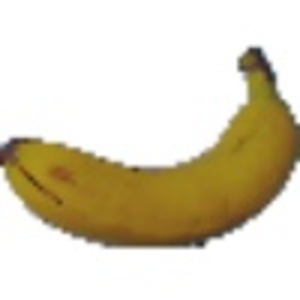banana: (3, 42, 299, 250)
